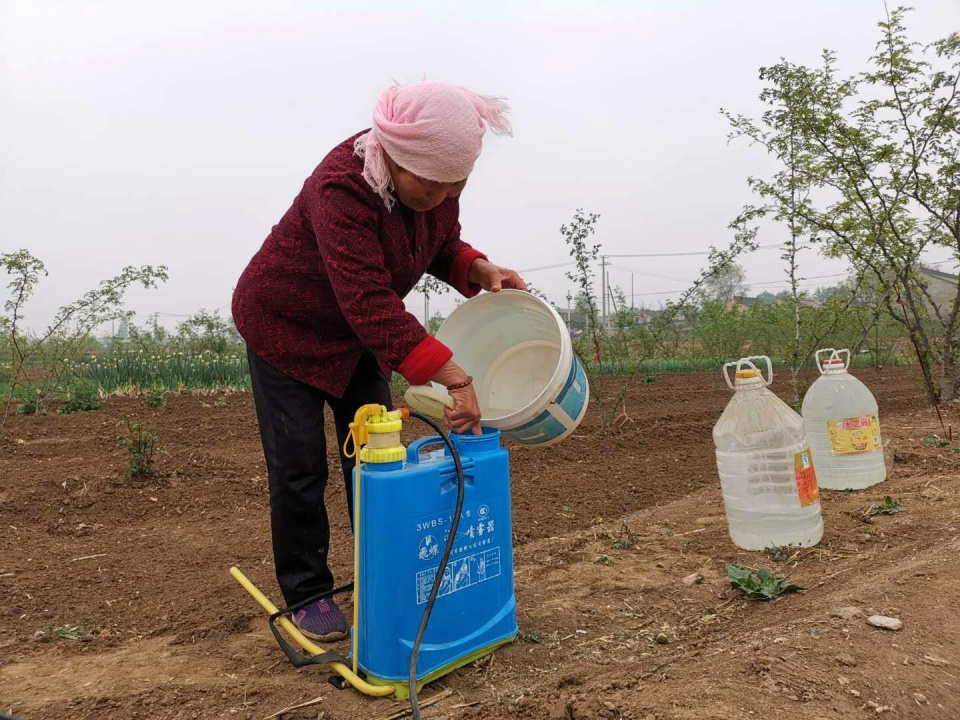berrl: (345, 409, 527, 684)
